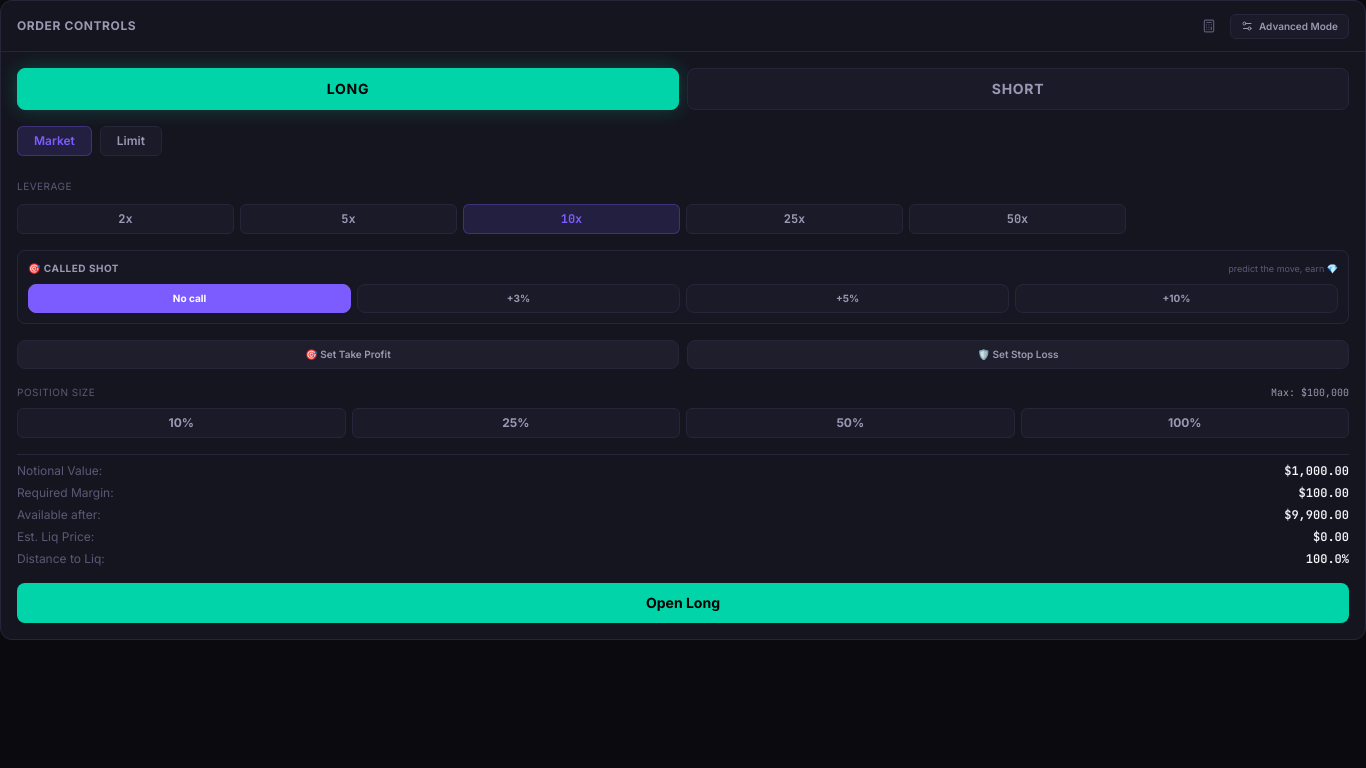
Test case: TradeControls › adjusts limit price up and down with step buttons
The image size is (1366, 768).
Click the button "Limit". click: (131, 141)
box: [100,126,162,156]
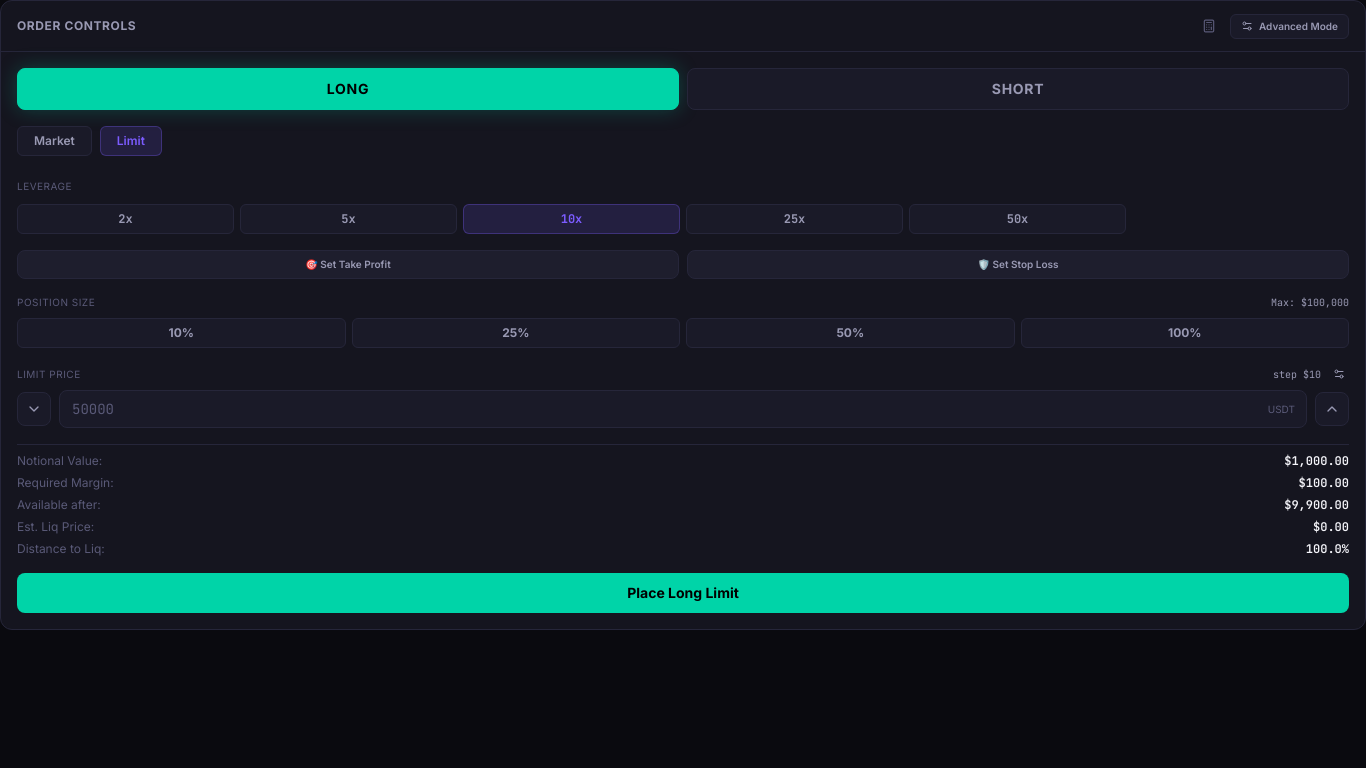
Click the field with placeholder "50000". click: (683, 409)
box: [59,390,1307,428]
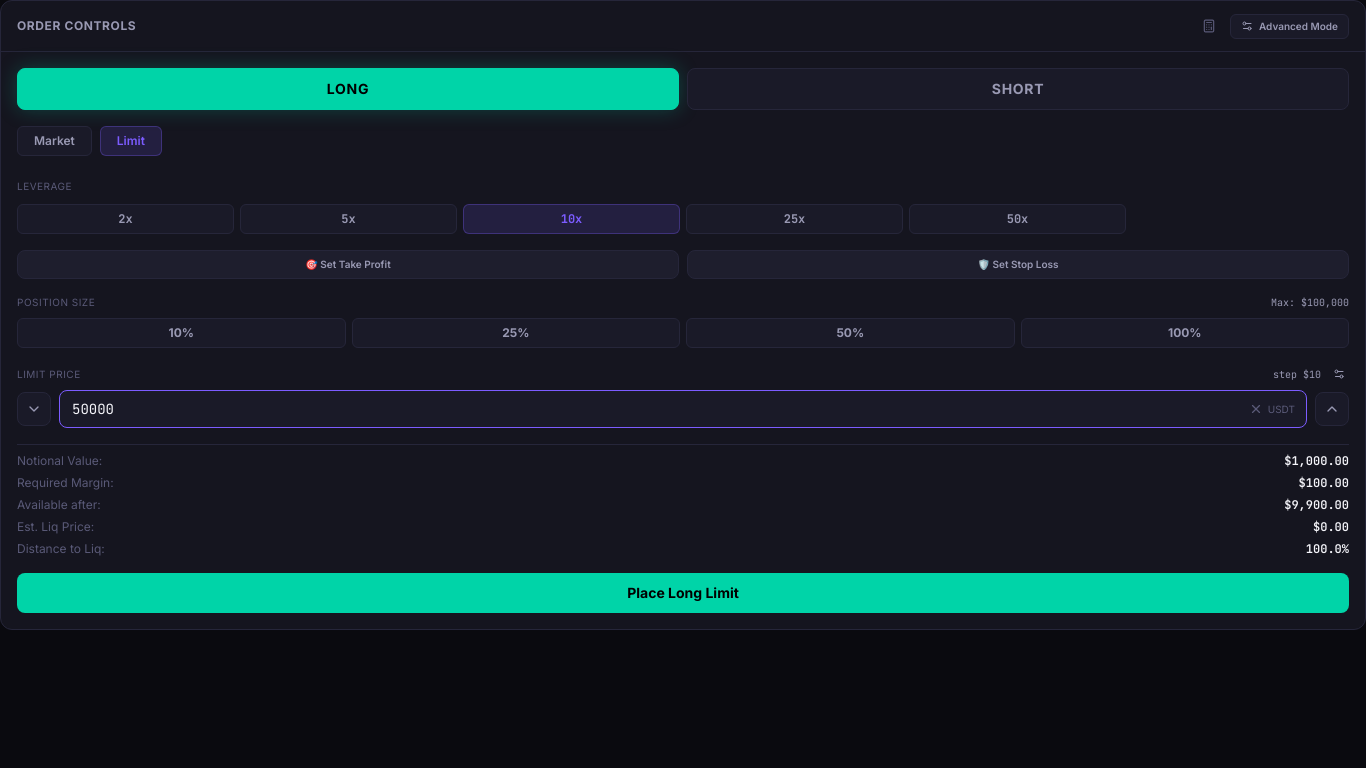
Expected: the field with placeholder "50000" holds "50000", [59,390,1307,428]
Click the button with test id "limit-price-down". click: (34, 409)
box: [17,392,51,426]
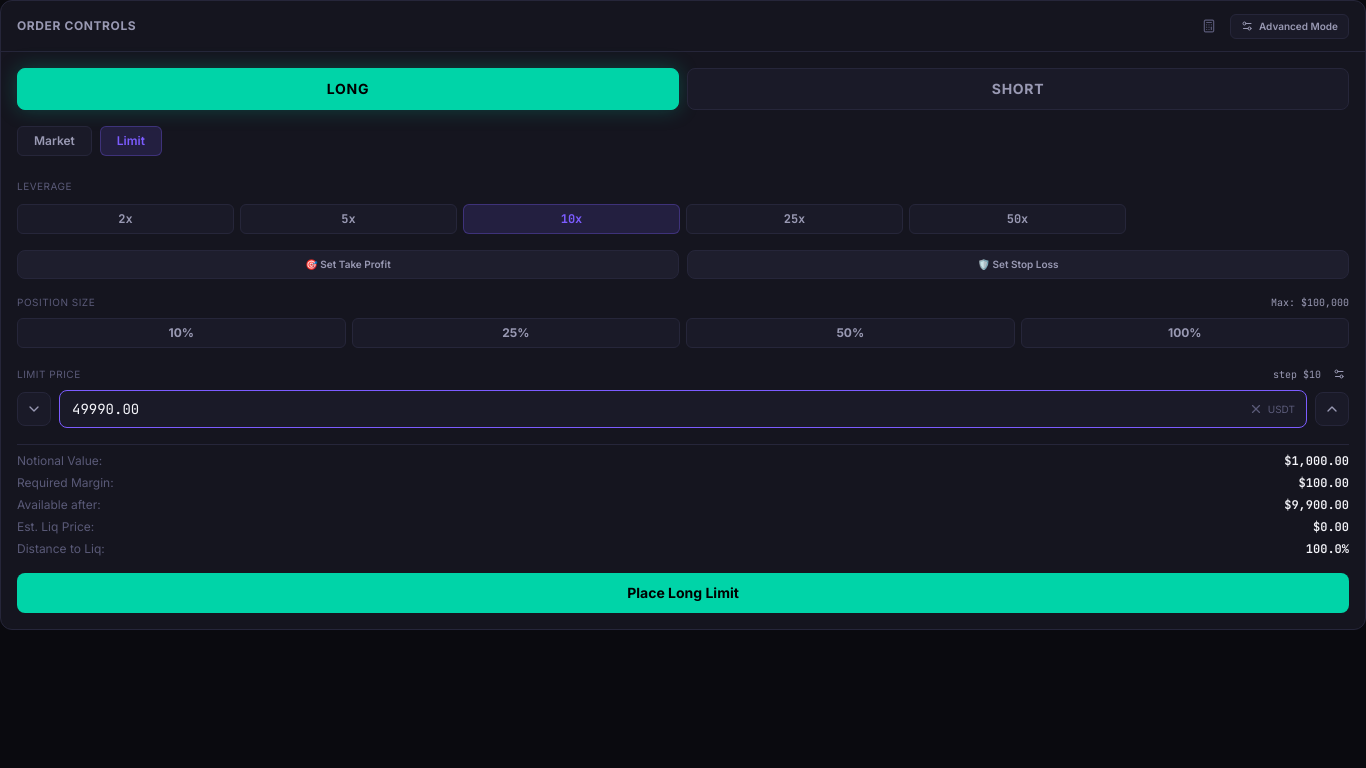
Expected: the field with placeholder "50000" holds "49990.00", [59,390,1307,428]
Click the button with test id "limit-price-up". click: (1332, 409)
box: [1315,392,1349,426]
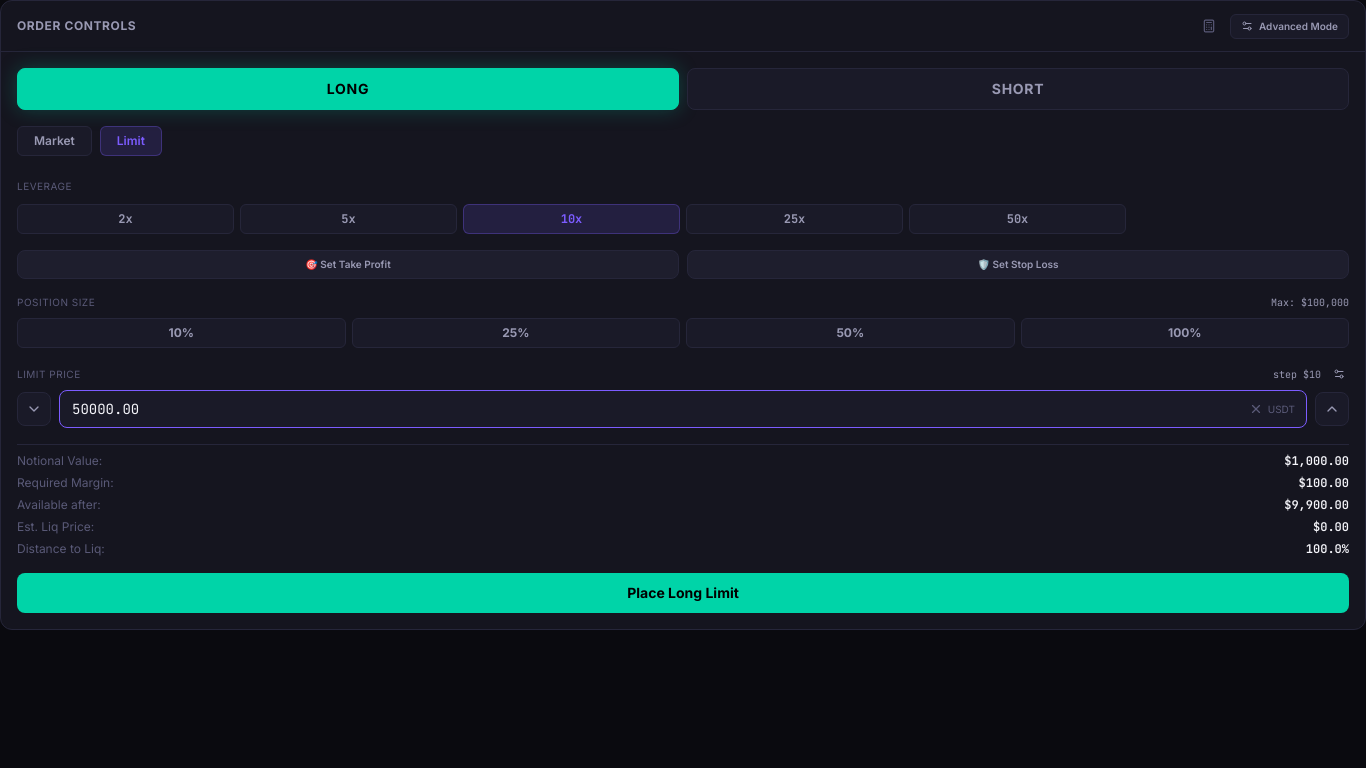
Click the button with test id "limit-price-up". click: (1332, 409)
box: [1315,392,1349,426]
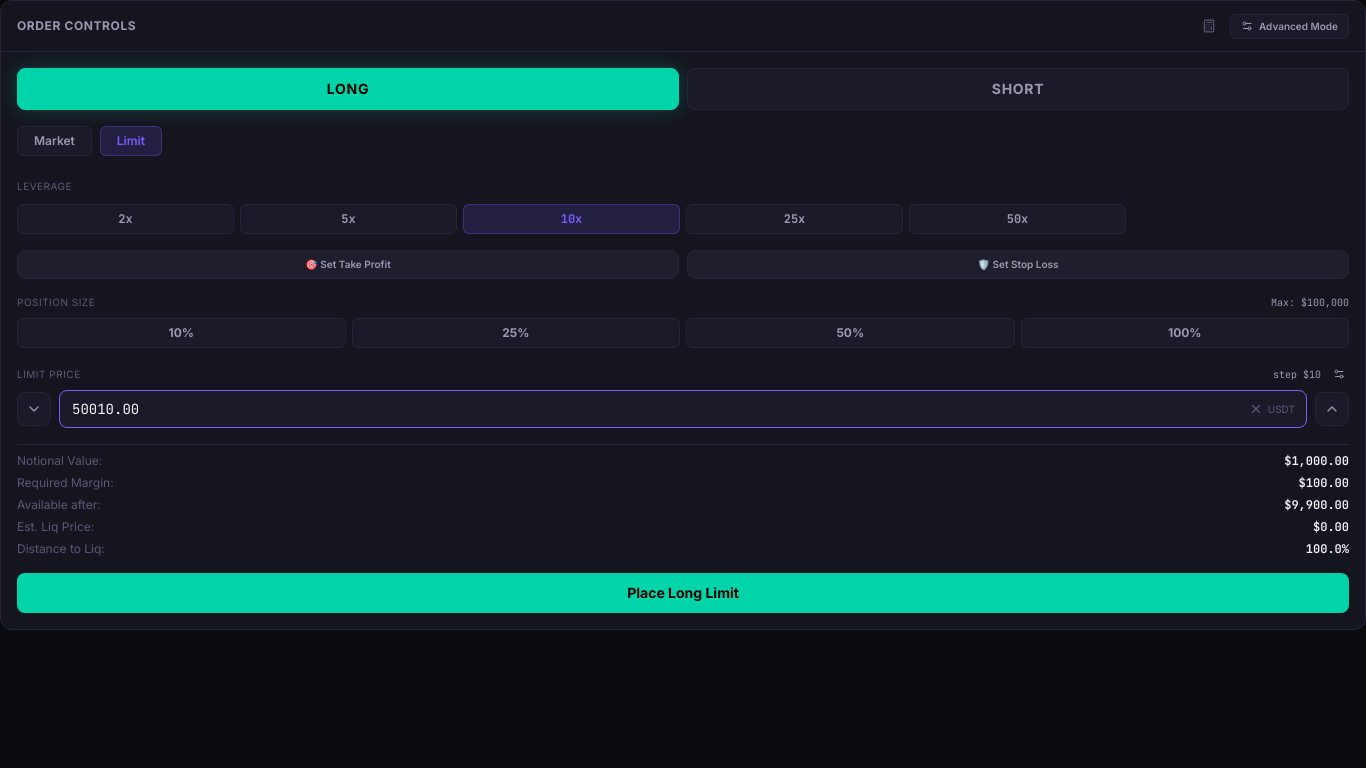
Expected: the field with placeholder "50000" holds "50010.00", [59,390,1307,428]
